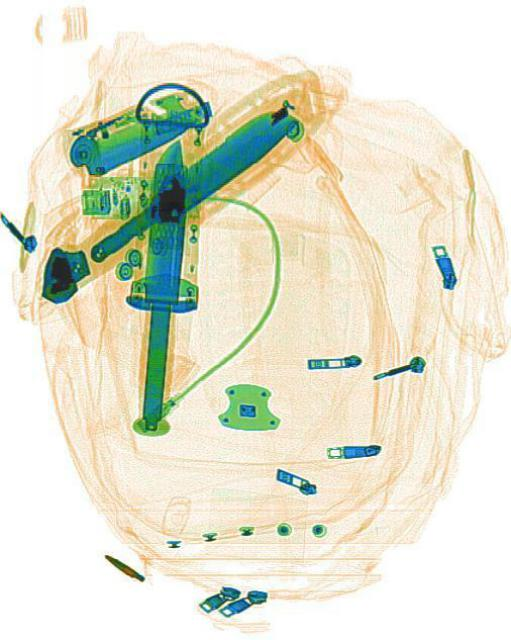Knife: (116, 132, 210, 434)
